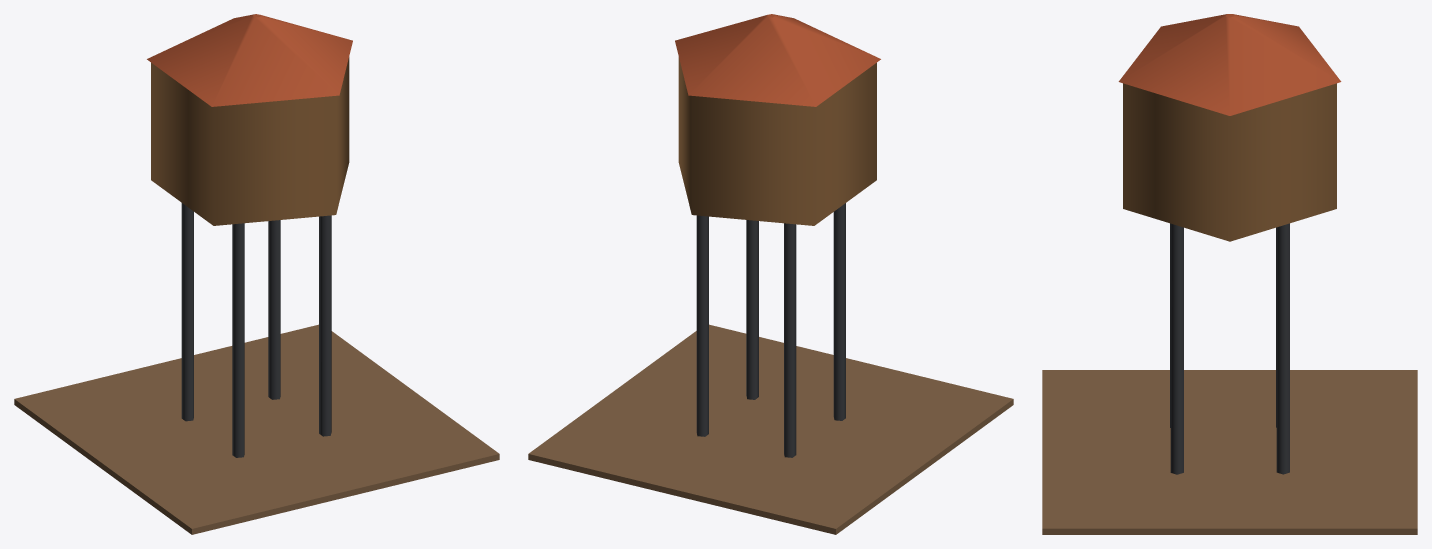
The model's file is bld_special_water_works_a04_lod2.glb.
The picture shows the model from 3 angles, left to right: view 1: azimuth 30°, elevation 25°; view 2: azimuth 150°, elevation 25°; view 3: azimuth 270°, elevation 25°; orthographic projection. The views are drawn at different scales.
Visible parts, largest first — view 1: body; view 2: body; view 3: body.
Part boxes in pixels (x1,y1,x2,y2): body: [14, 14, 499, 534]; body: [528, 14, 1013, 534]; body: [1042, 14, 1417, 534].
Size of the model in its own units: 8 by 10.35 by 8.
